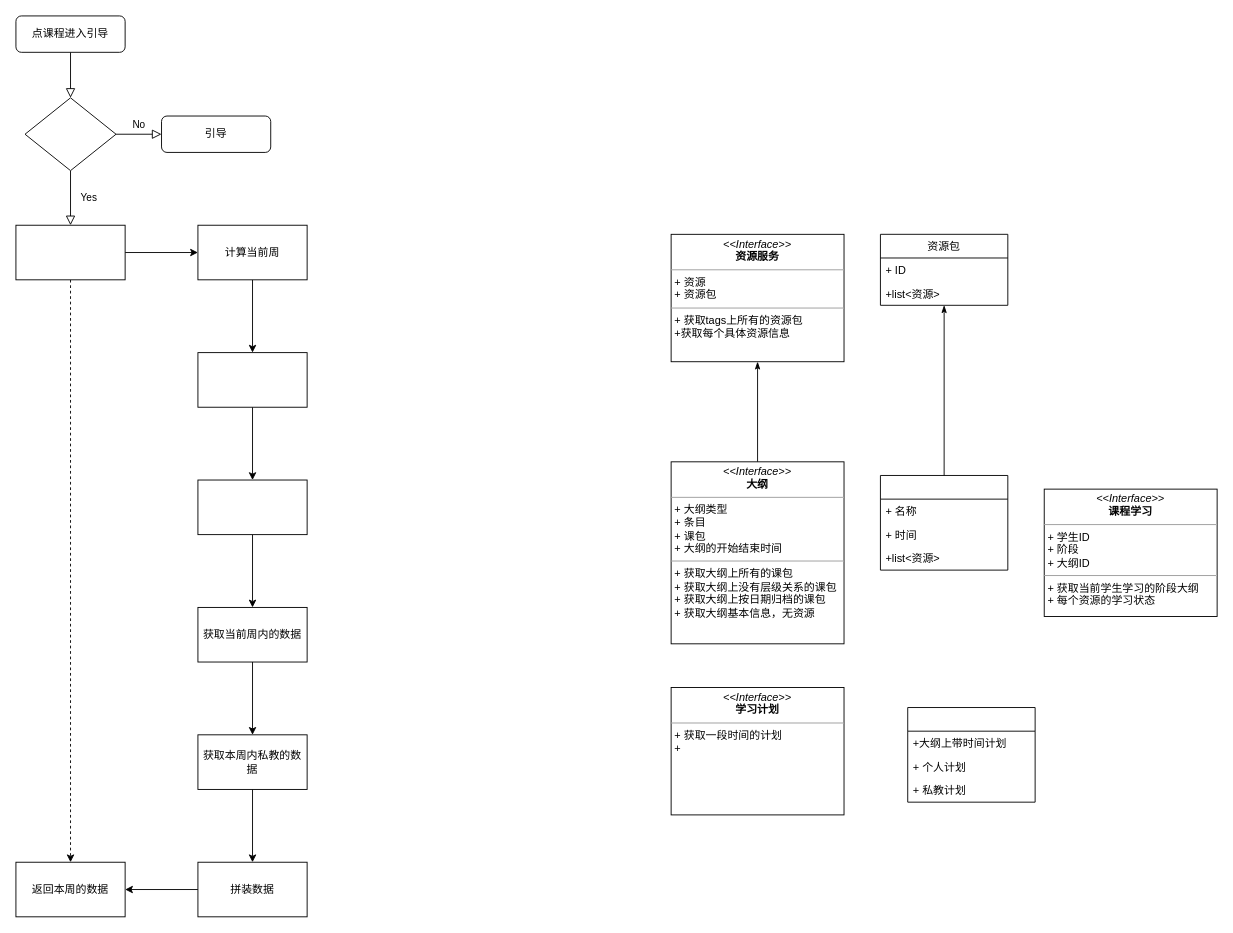
The diagram is 1233 pixels wide and 933 high, and some of its shapes have lost their labels. The shapes that lost their labels are listed below. From the top down, each one's box as (x1, y1, x2, y2) in pixels, then its label:
(24, 97, 116, 171): 引导是否结束
(15, 224, 125, 280): 拉取每日计划
(197, 352, 307, 407): 拉取用户的课程配置信息
(197, 479, 307, 535): 获取当前用户的阶段对应的大纲
(880, 475, 1008, 570): 课包【必有课中】
(907, 707, 1035, 802): 课程表
